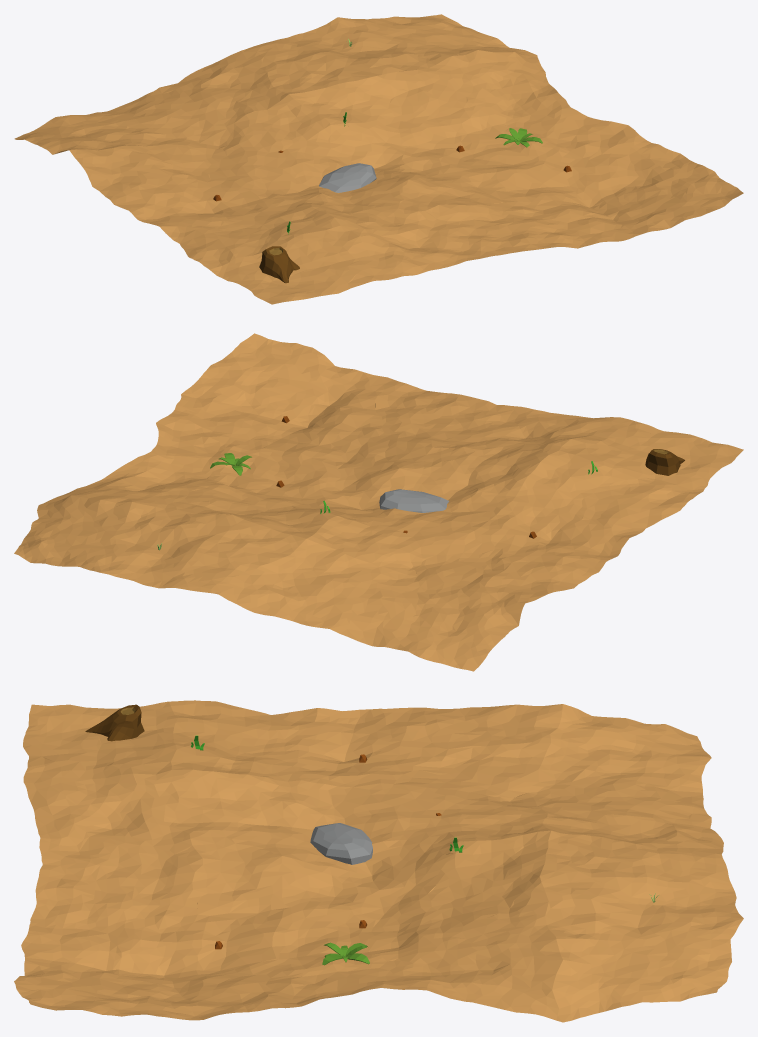
The model's file is stage_2.fbx.
3 views of the same model, one above another, from view 1: azimuth 30°, elevation 25°; view 2: azimuth 150°, elevation 25°; view 3: azimuth 270°, elevation 25° (orthographic). The views are drawn at different scales.
Visible parts, largest first — view 1: Environment_2; view 2: Environment_2; view 3: Environment_2.
Boxes of the visible parts, x1,y1,x2,y2 form: Environment_2: [14, 14, 743, 304]; Environment_2: [14, 333, 743, 671]; Environment_2: [14, 700, 743, 1022].
Bounding box in the file's own units: 2142 × 205 × 2155.
